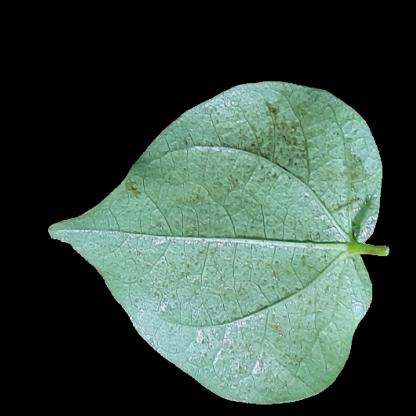healthy: (151, 150, 359, 325), (213, 96, 319, 145), (226, 336, 340, 379), (81, 199, 151, 268)
